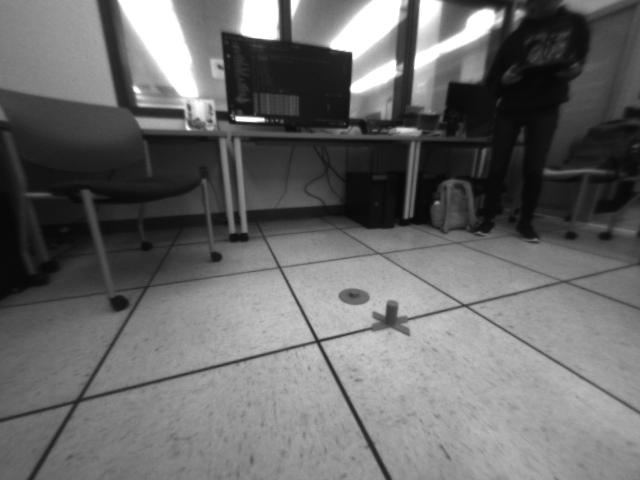X: (371, 300, 410, 338)
